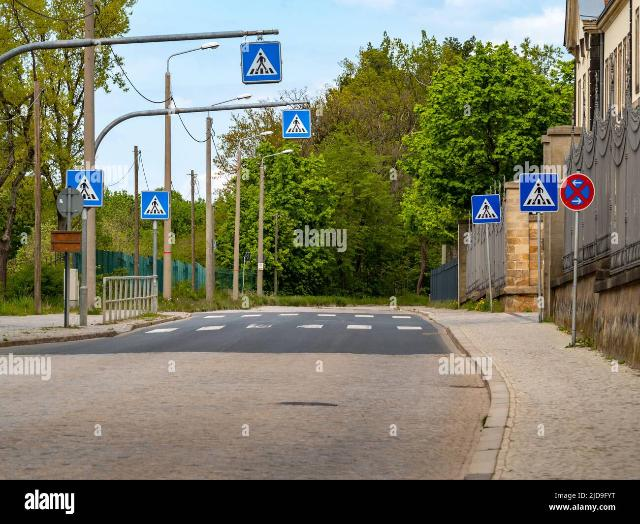crosswalk-sign: (241, 42, 283, 85), (521, 173, 560, 213), (67, 170, 104, 208), (472, 195, 502, 225), (283, 110, 312, 140), (142, 192, 171, 221)
